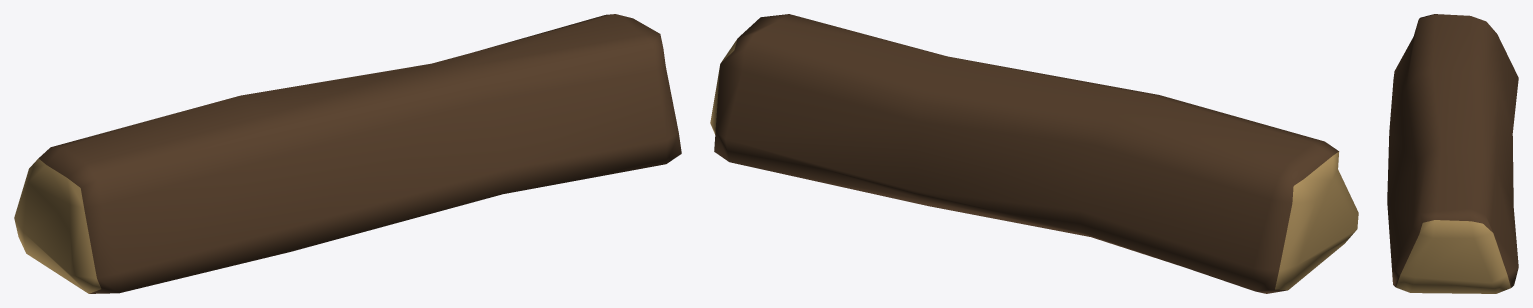
Rendered from MSH_int_Log.fbx.
3 renders of one model, left to right at view 1: azimuth 30°, elevation 25°; view 2: azimuth 150°, elevation 25°; view 3: azimuth 270°, elevation 25°, orthographic. The views are drawn at different scales.
Visible parts, largest first — view 1: Wood; view 2: Wood; view 3: Wood.
Part boxes in pixels (x1,y1,x2,y2): Wood: (14,14,681,293); Wood: (710,14,1358,293); Wood: (1387,14,1518,293).
Size of the model in its own units: 4.18 by 0.8696 by 1.09.
